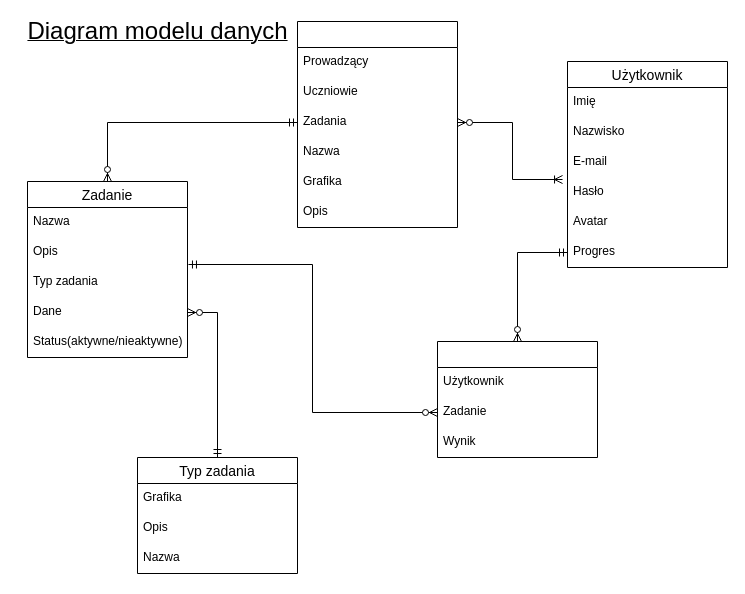
The diagram is 745 pixels wide and 594 high, and some of its shapes have lost their labels. The box of each missing label's shape, as (x1, y1, x2, y2) in pixels:
Progres Użytkownika: (436, 340, 598, 458)
Zespół: (296, 20, 458, 228)
